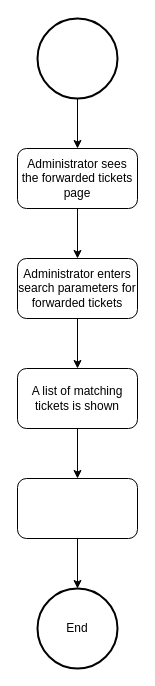
This 155x686 diagram has some shape labels left out. Each missing label, with the box of its shape:
Administrator can view details and info about each ticket: (16, 478, 138, 538)
Start: (36, 17, 118, 99)
